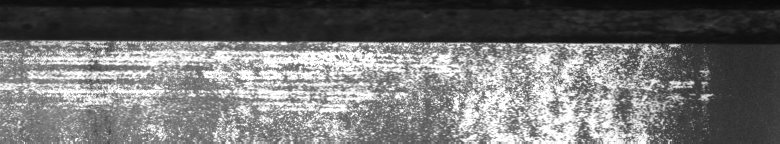kb: (4, 32, 715, 136)
